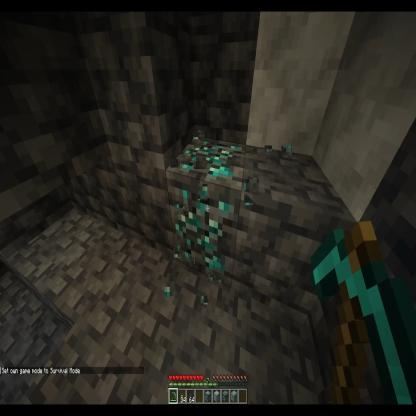diamond ore: (167, 132, 247, 290)
